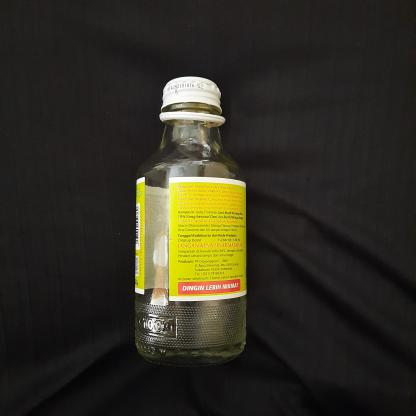keyboard: (128, 72, 249, 367)
